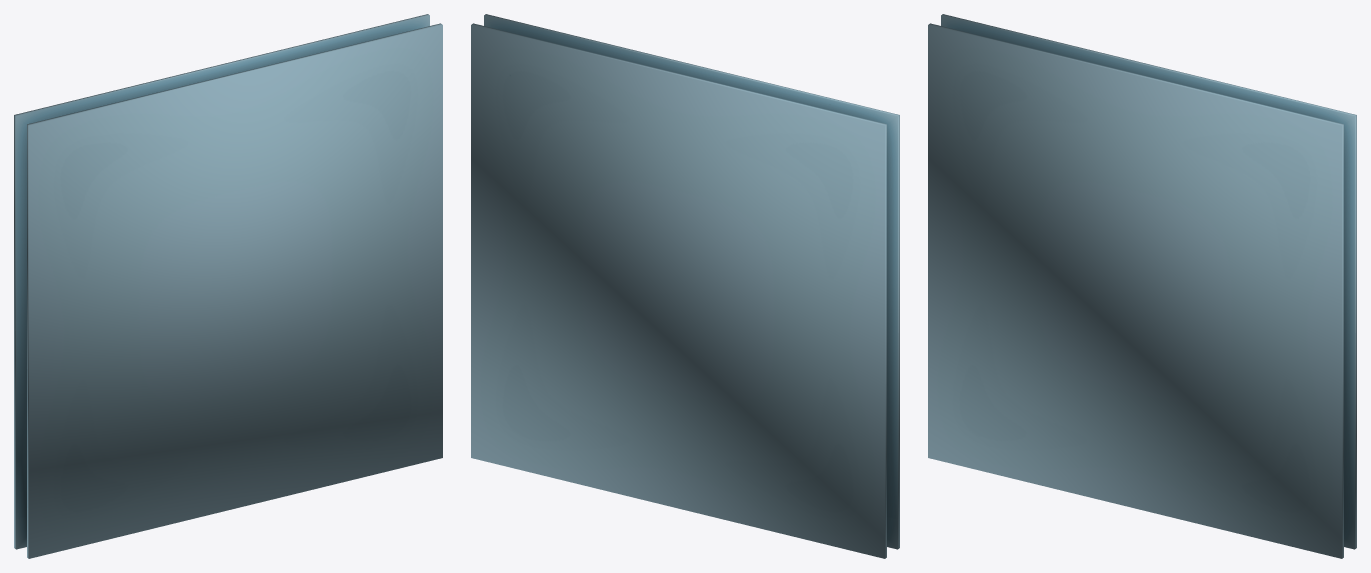
File: squareplatform.fbx
The picture shows the model from 3 angles, left to right: view 1: azimuth 30°, elevation 25°; view 2: azimuth 150°, elevation 25°; view 3: azimuth 330°, elevation 25°; orthographic projection.
Parts seen in each view (by area): view 1: Cube; view 2: Cube; view 3: Cube.
Part boxes in pixels (<box>): Cube: <box>14,14,442,558</box>; Cube: <box>471,14,899,558</box>; Cube: <box>928,14,1356,558</box>.
Bounding box in the file's own units: 107 × 107 × 6.63.
1 material, 1 textured.
